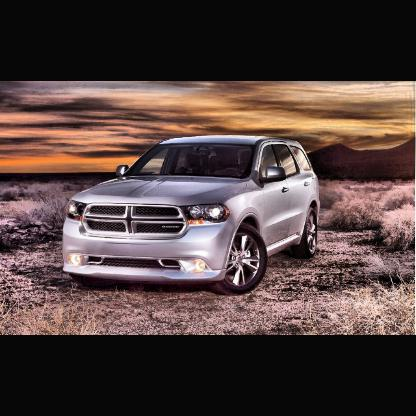Dodge Durango SUV 2012: (61, 134, 324, 299)
